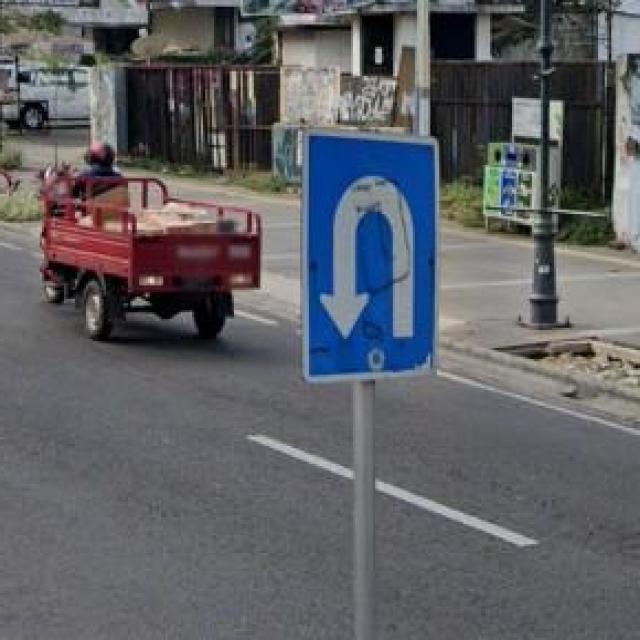U-turn: (307, 133, 435, 375)
